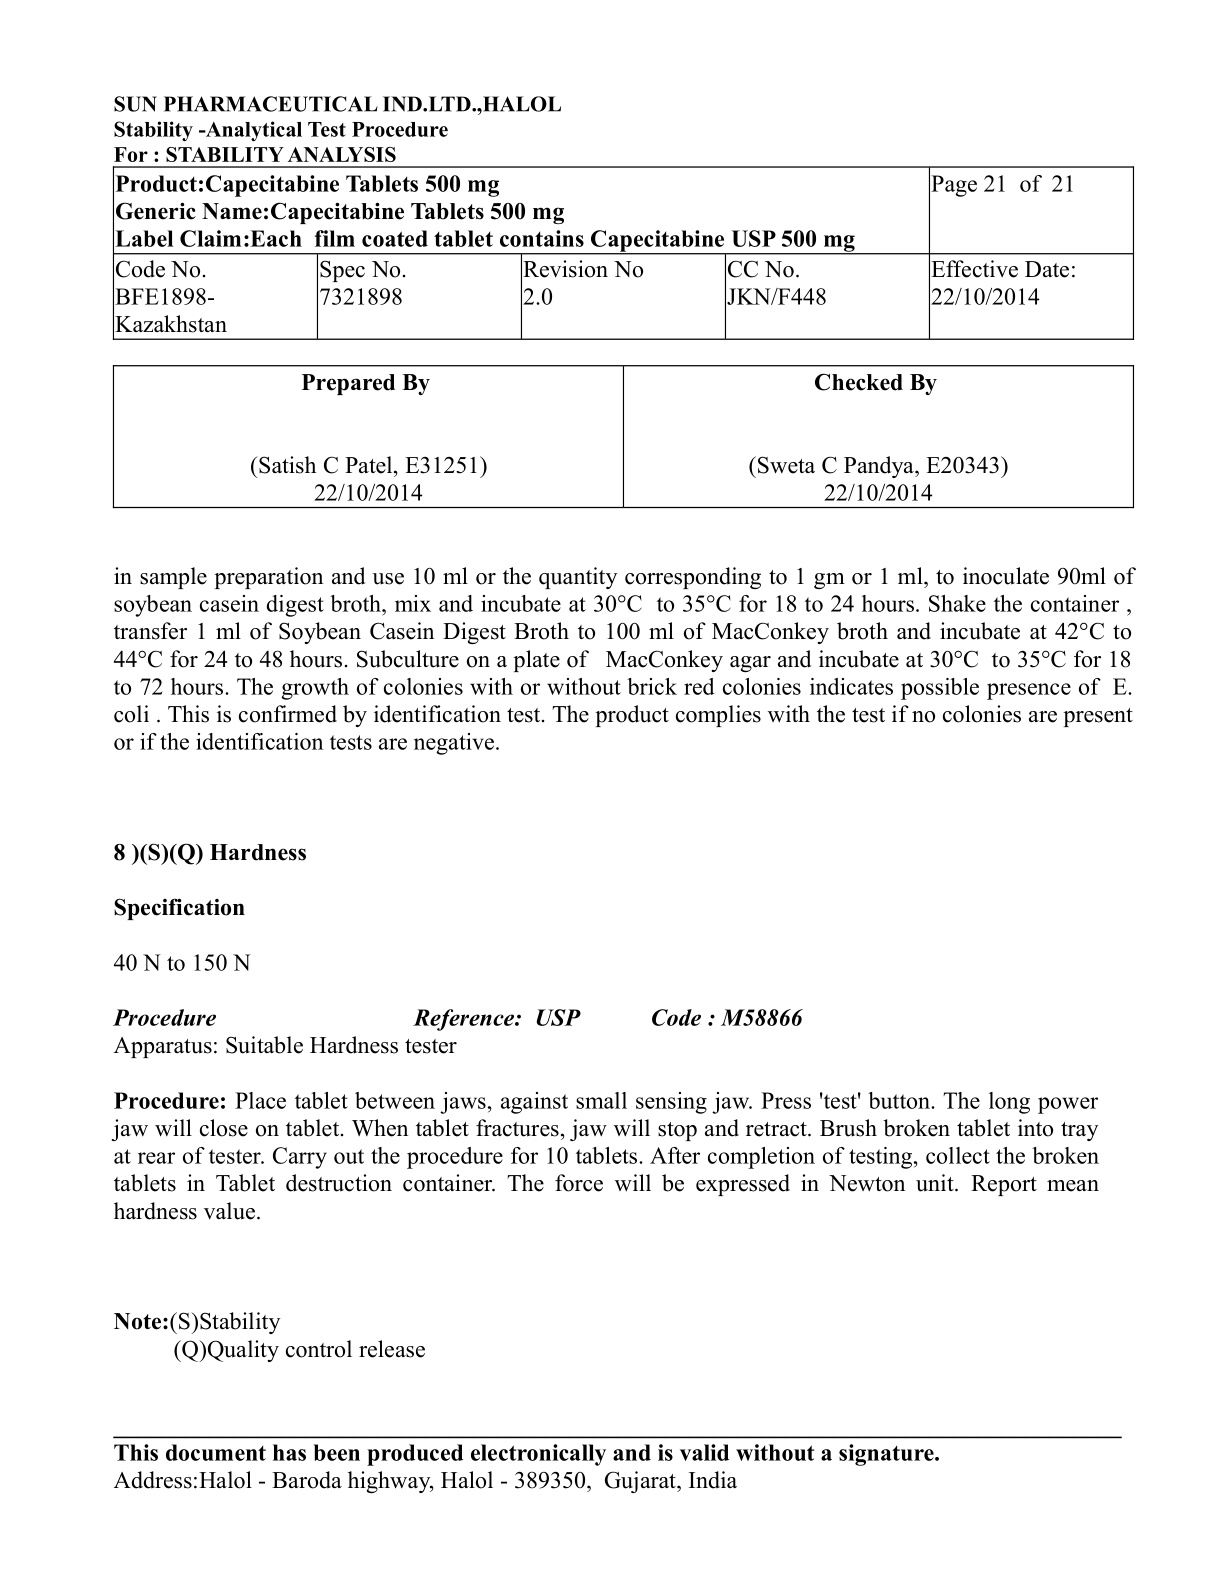full_lined: (112, 365, 1134, 508)
merged_cells: (112, 166, 1134, 339)
